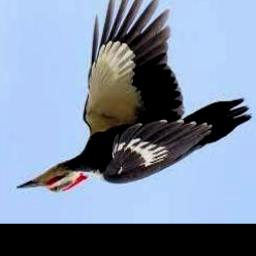Woodpecker: (15, 0, 252, 193)
